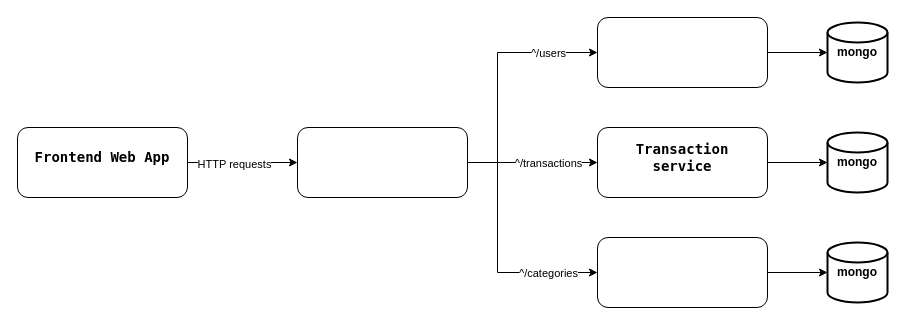
This 906x325 diagram has some shape labels left out. The centre of each missing label's shape, as x and y in pixels:
"API Gateway" belongs at point 382,162.
"category service" belongs at point 682,272.
"User service" belongs at point 682,52.
